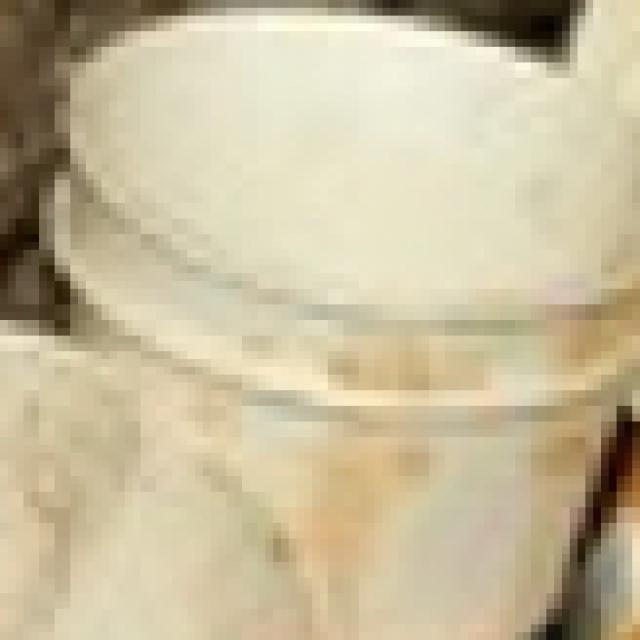plastic cup: (15, 0, 640, 616)
